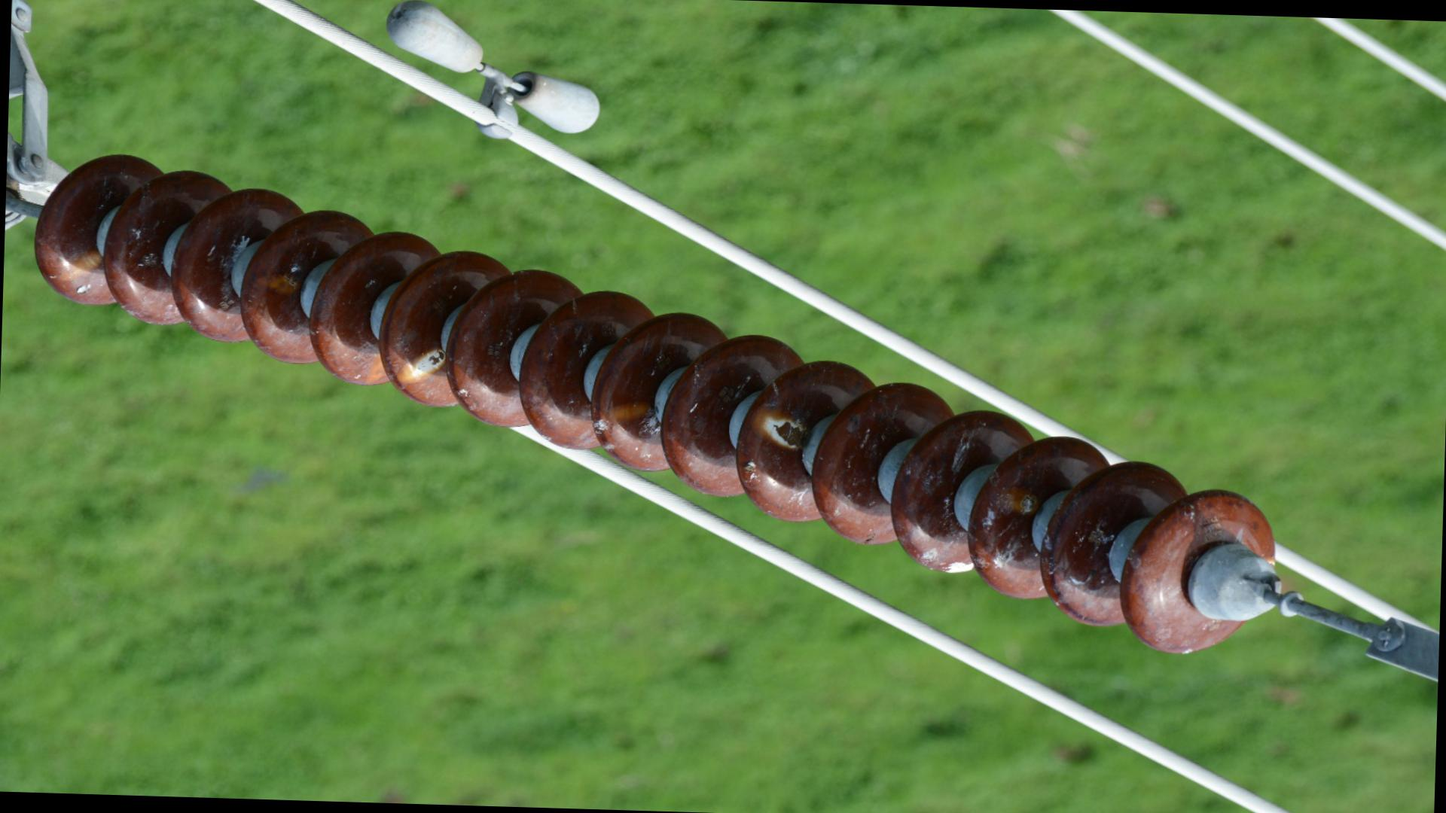damper: (376, 1, 612, 151)
